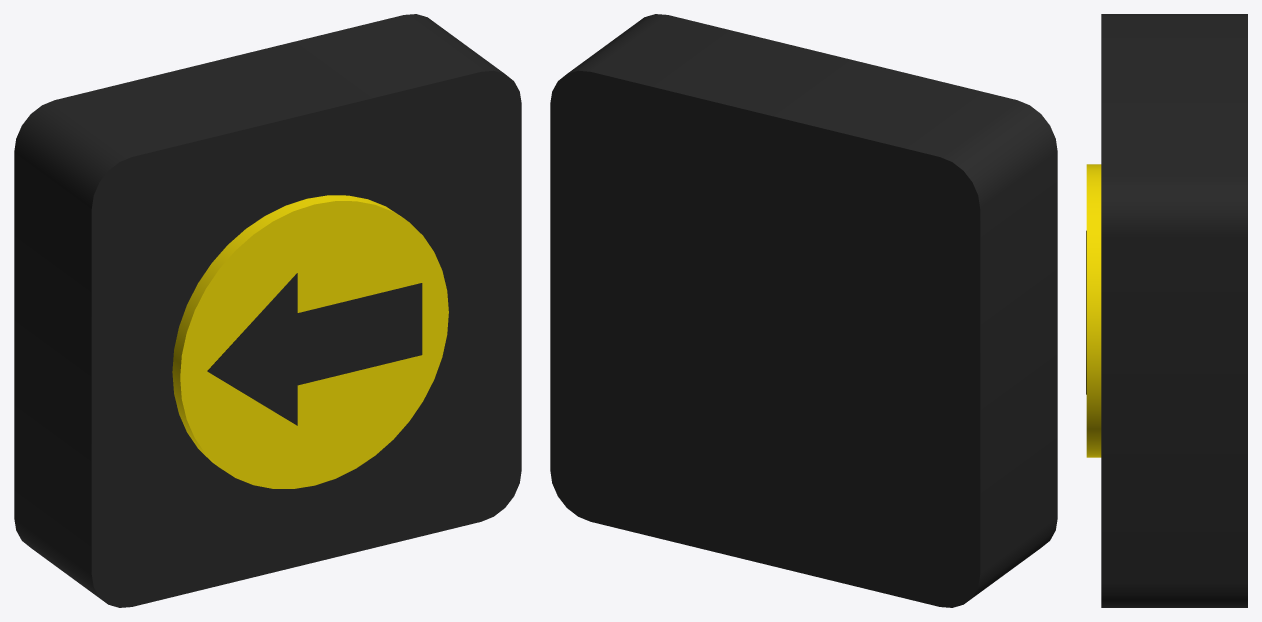
3 renders of one model, left to right at view 1: azimuth 30°, elevation 25°; view 2: azimuth 150°, elevation 25°; view 3: azimuth 270°, elevation 25°, orthographic. The views are drawn at different scales.
Visible parts, largest first — view 1: R21cg_r00, R21cg_d250, R21cg_s275; view 2: R21cg_r00; view 3: R21cg_r00, R21cg_d250.
Boxes of the visible parts, bbox=[...] form: R21cg_r00: bbox=[14, 14, 521, 607]; R21cg_d250: bbox=[172, 195, 448, 488]; R21cg_s275: bbox=[207, 273, 422, 425]; R21cg_r00: bbox=[550, 14, 1057, 607]; R21cg_r00: bbox=[1101, 14, 1247, 607]; R21cg_d250: bbox=[1086, 164, 1101, 457].
Size of the model in its own units: 0.32 by 0.32 by 0.1104.
